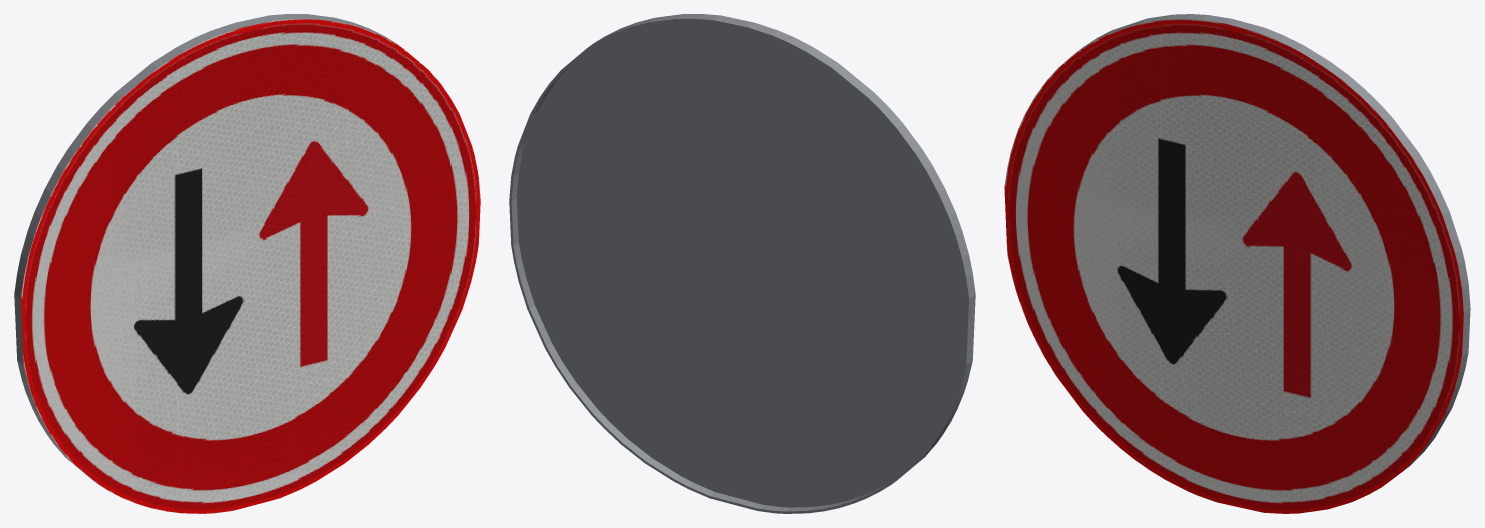
3 views of the same model, side by side, from view 1: azimuth 30°, elevation 25°; view 2: azimuth 150°, elevation 25°; view 3: azimuth 330°, elevation 25° (orthographic).
Visible parts, largest first — view 1: cat_88f36dc87c189cca; view 2: cat_88f36dc87c189cca; view 3: cat_88f36dc87c189cca.
Boxes of the visible parts, left/top/right/bottom form: cat_88f36dc87c189cca: left=14, top=14, right=480, bottom=513; cat_88f36dc87c189cca: left=509, top=14, right=975, bottom=513; cat_88f36dc87c189cca: left=1004, top=14, right=1470, bottom=513.
Size of the model in its own units: 0.6 by 0.015 by 0.6.
Materials: 2 (1 with a texture image).
